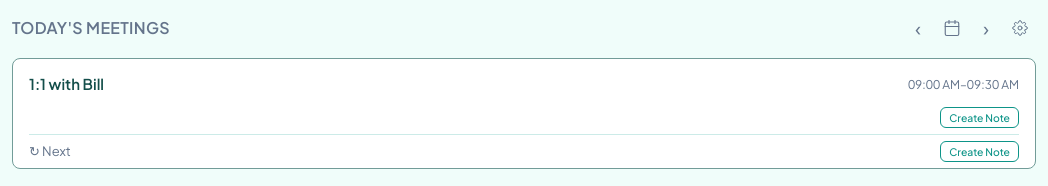
Test: MeetingsSection — date navigation › stepping back a day shows the previous day and the "Yesterday's Meetings" heading
The image size is (1048, 186).
Expected: the text "1:1 with Bill" is shown, x1=29 y1=74 x2=104 y2=93
Click the button with test id "meetings-prev-day". click: (918, 28)
box: x1=902 y1=12 x2=934 y2=44
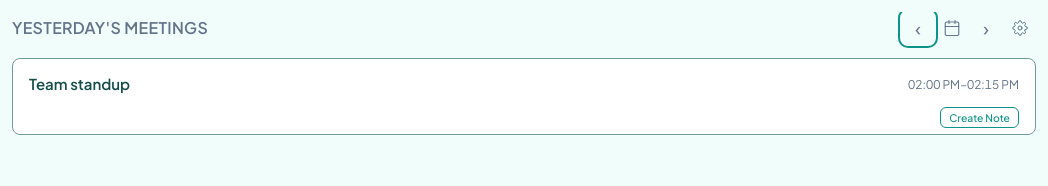
Now the text "Team standup" is shown, box x1=29 y1=74 x2=130 y2=93
Now the heading with test id "meetings-heading" reads "Yesterday's Meetings", box x1=12 y1=17 x2=208 y2=38
